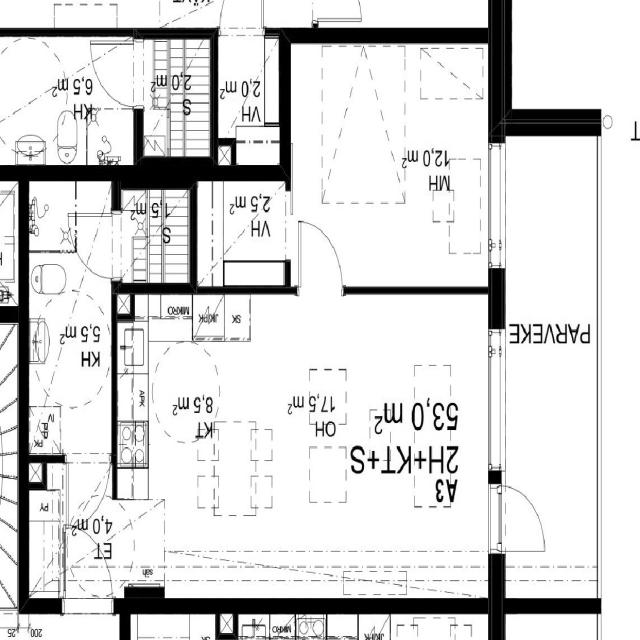door: (289, 210, 352, 317), (494, 472, 548, 555), (92, 39, 138, 104), (68, 527, 100, 568)
window: (483, 324, 511, 476), (482, 136, 511, 279), (485, 477, 503, 556)
zone: (305, 38, 492, 290), (0, 33, 137, 165), (26, 241, 110, 454), (192, 177, 290, 290), (136, 34, 215, 162), (216, 31, 282, 161), (116, 188, 191, 286), (110, 498, 163, 594), (28, 477, 62, 603), (27, 178, 76, 251), (124, 606, 223, 640), (0, 175, 22, 312)
